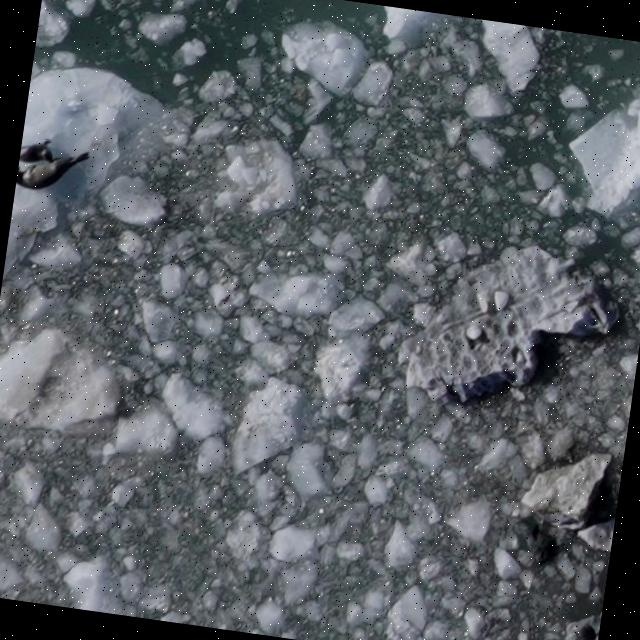seal: (12, 147, 96, 195), (19, 140, 54, 163)
